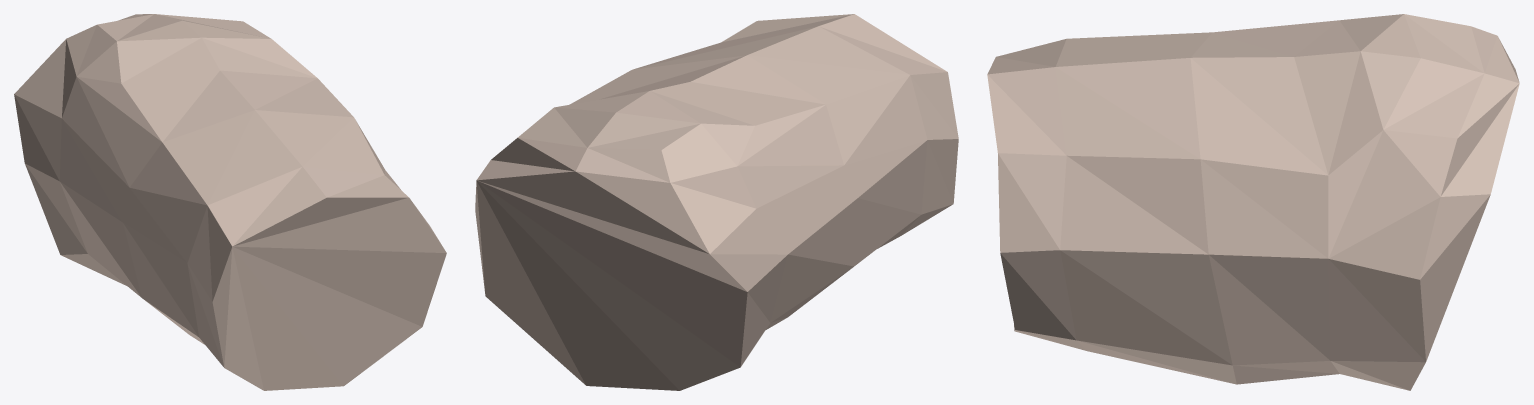
Rendered from RIndex2ndPhalange.dae.
3 renders of one model, left to right at view 1: azimuth 30°, elevation 25°; view 2: azimuth 150°, elevation 25°; view 3: azimuth 270°, elevation 25°, orthographic. The views are drawn at different scales.
Parts seen in each view (by area): view 1: ShapeIndexedFaceSet; view 2: ShapeIndexedFaceSet; view 3: ShapeIndexedFaceSet.
Part boxes in pixels (x1=…): ShapeIndexedFaceSet: x1=14, y1=14, x2=446, y2=390; ShapeIndexedFaceSet: x1=475, y1=14, x2=958, y2=390; ShapeIndexedFaceSet: x1=987, y1=14, x2=1519, y2=390.
Size of the model in its own units: 0.0199 by 0.0281 by 0.0185.
